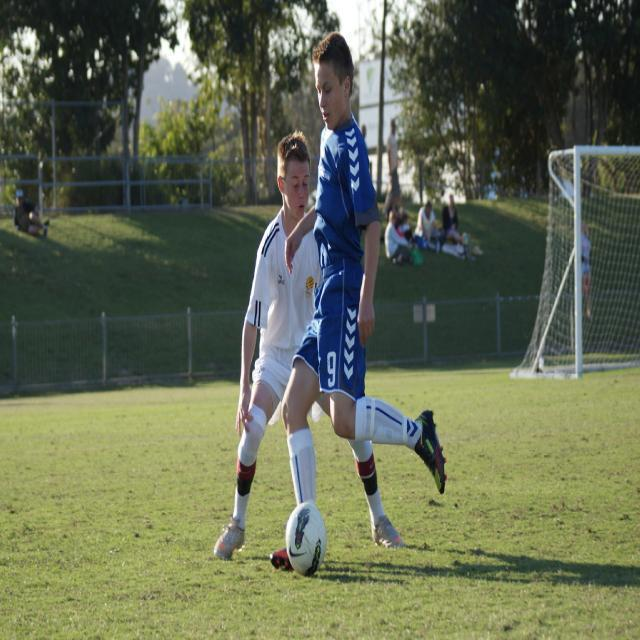football: (267, 493, 356, 587)
